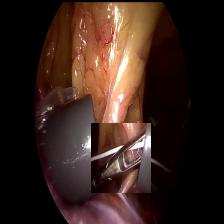Grasper: (90, 122, 150, 192)
